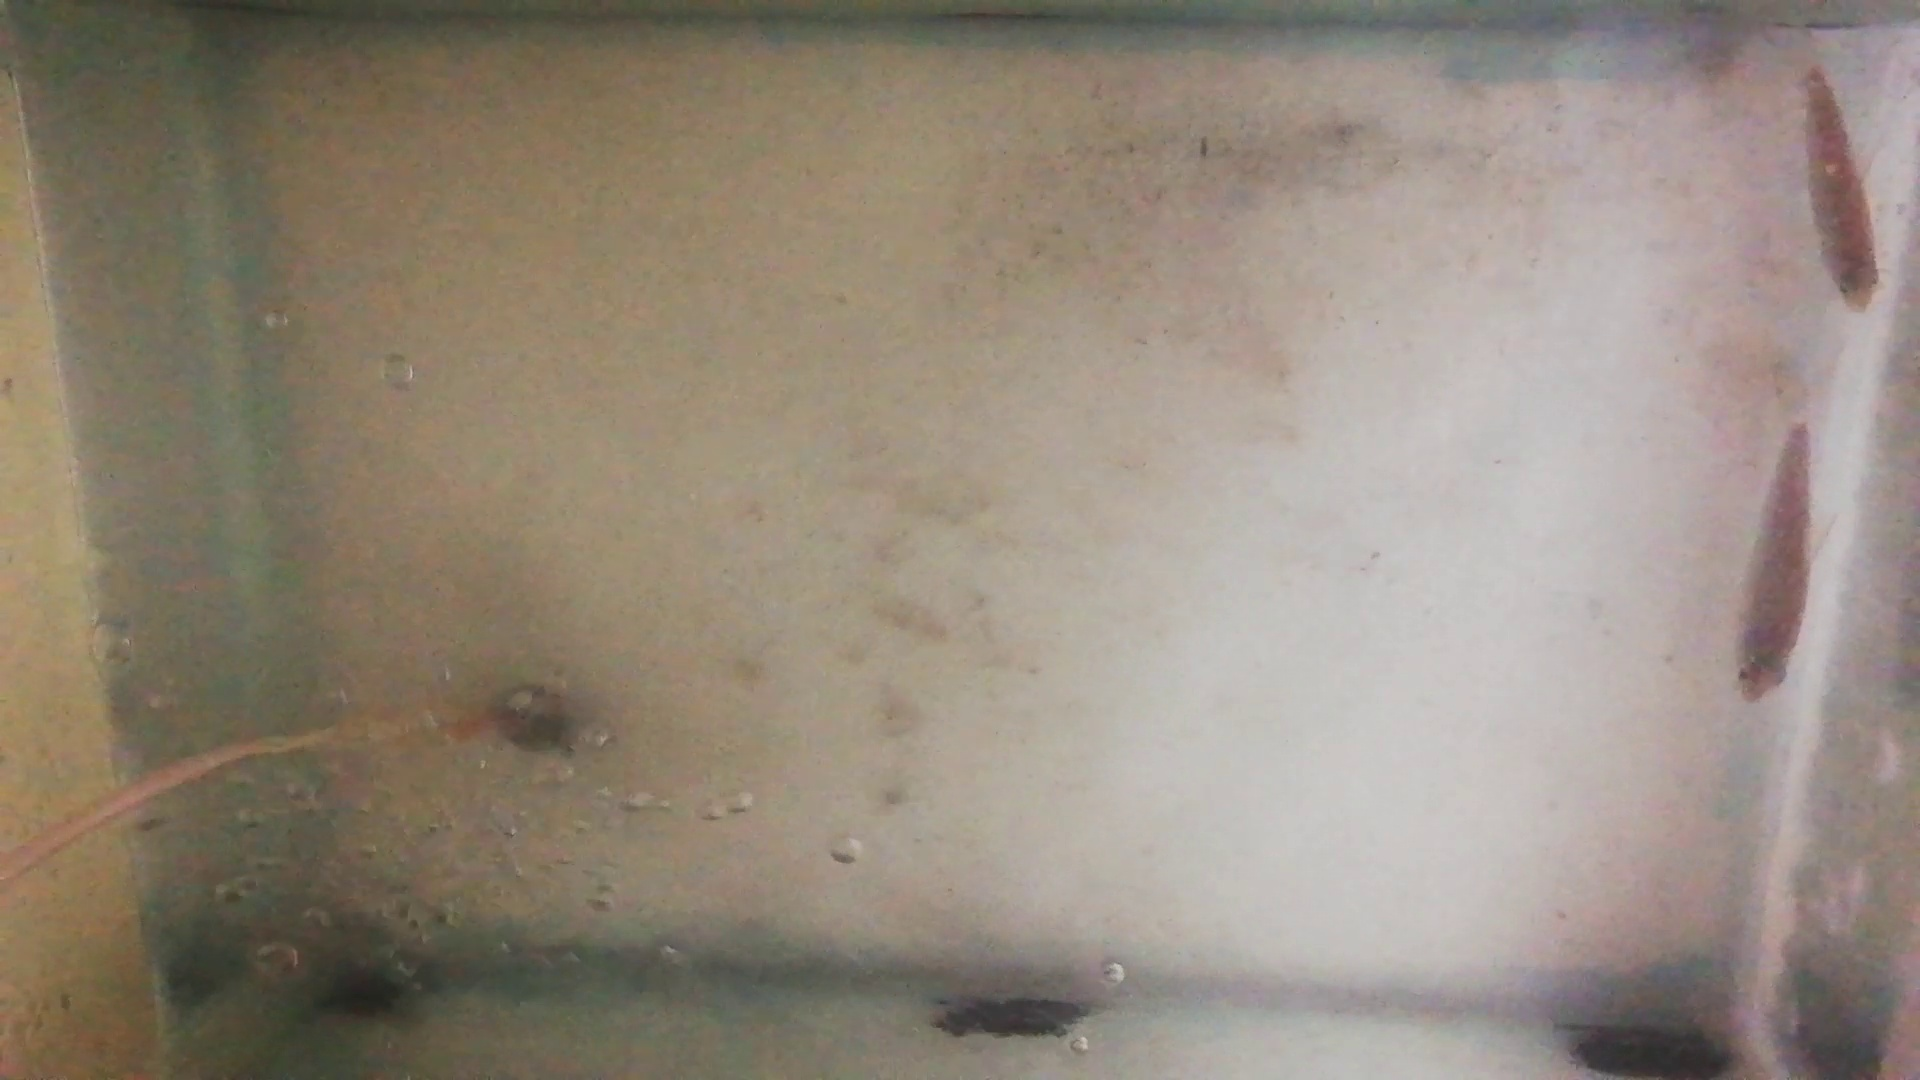fish: (1731, 426, 1815, 705), (1799, 65, 1880, 313)
